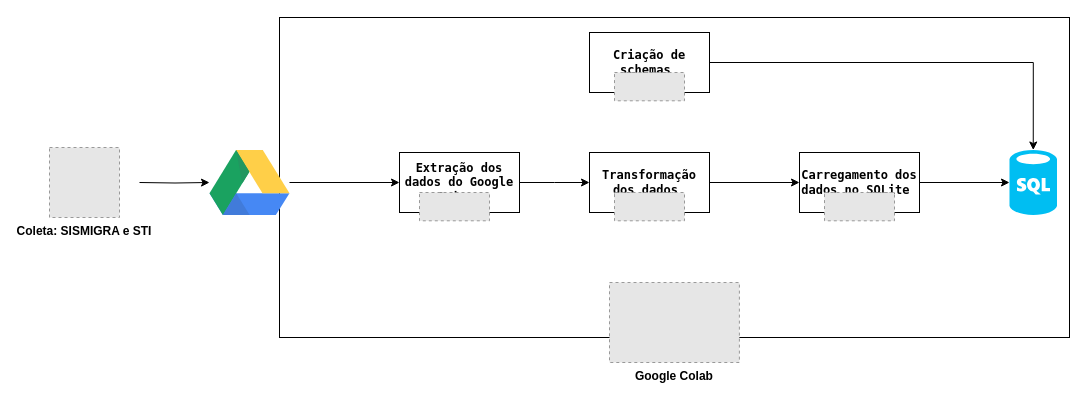
This 1087x401 diagram has some shape labels left out. Grey dashed boxes stand in for pictures. Here are the shapes that lost their labels. From the top down, the centre of each, then its label:
At point (249, 182): "Google Drive".
At point (1032, 182): "SQLite".
